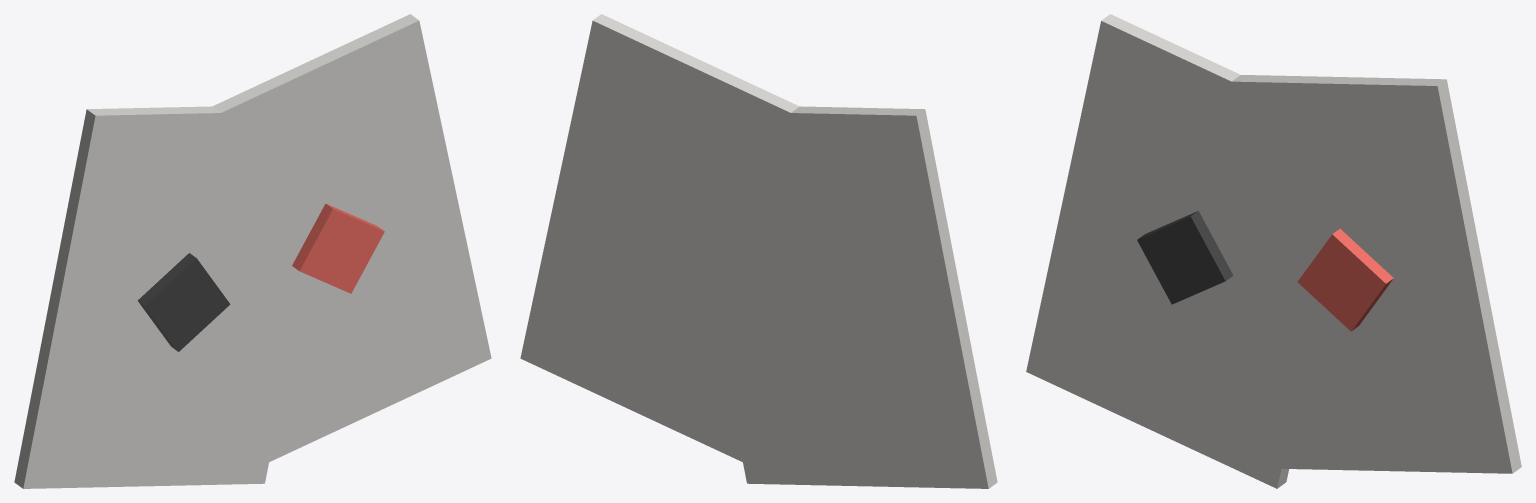
The model's file is CardFan.fbx.
3 views of the same model, side by side, from view 1: azimuth 30°, elevation 25°; view 2: azimuth 150°, elevation 25°; view 3: azimuth 330°, elevation 25° (orthographic). The views are drawn at different scales.
Visible parts, largest first — view 1: Body; view 2: Body; view 3: Body.
Part boxes in pixels (x1=…): Body: x1=14, y1=14, x2=491, y2=488; Body: x1=520, y1=14, x2=997, y2=488; Body: x1=1026, y1=14, x2=1521, y2=488.
Size of the model in its own units: 0.6066 by 0.5267 by 0.037.
